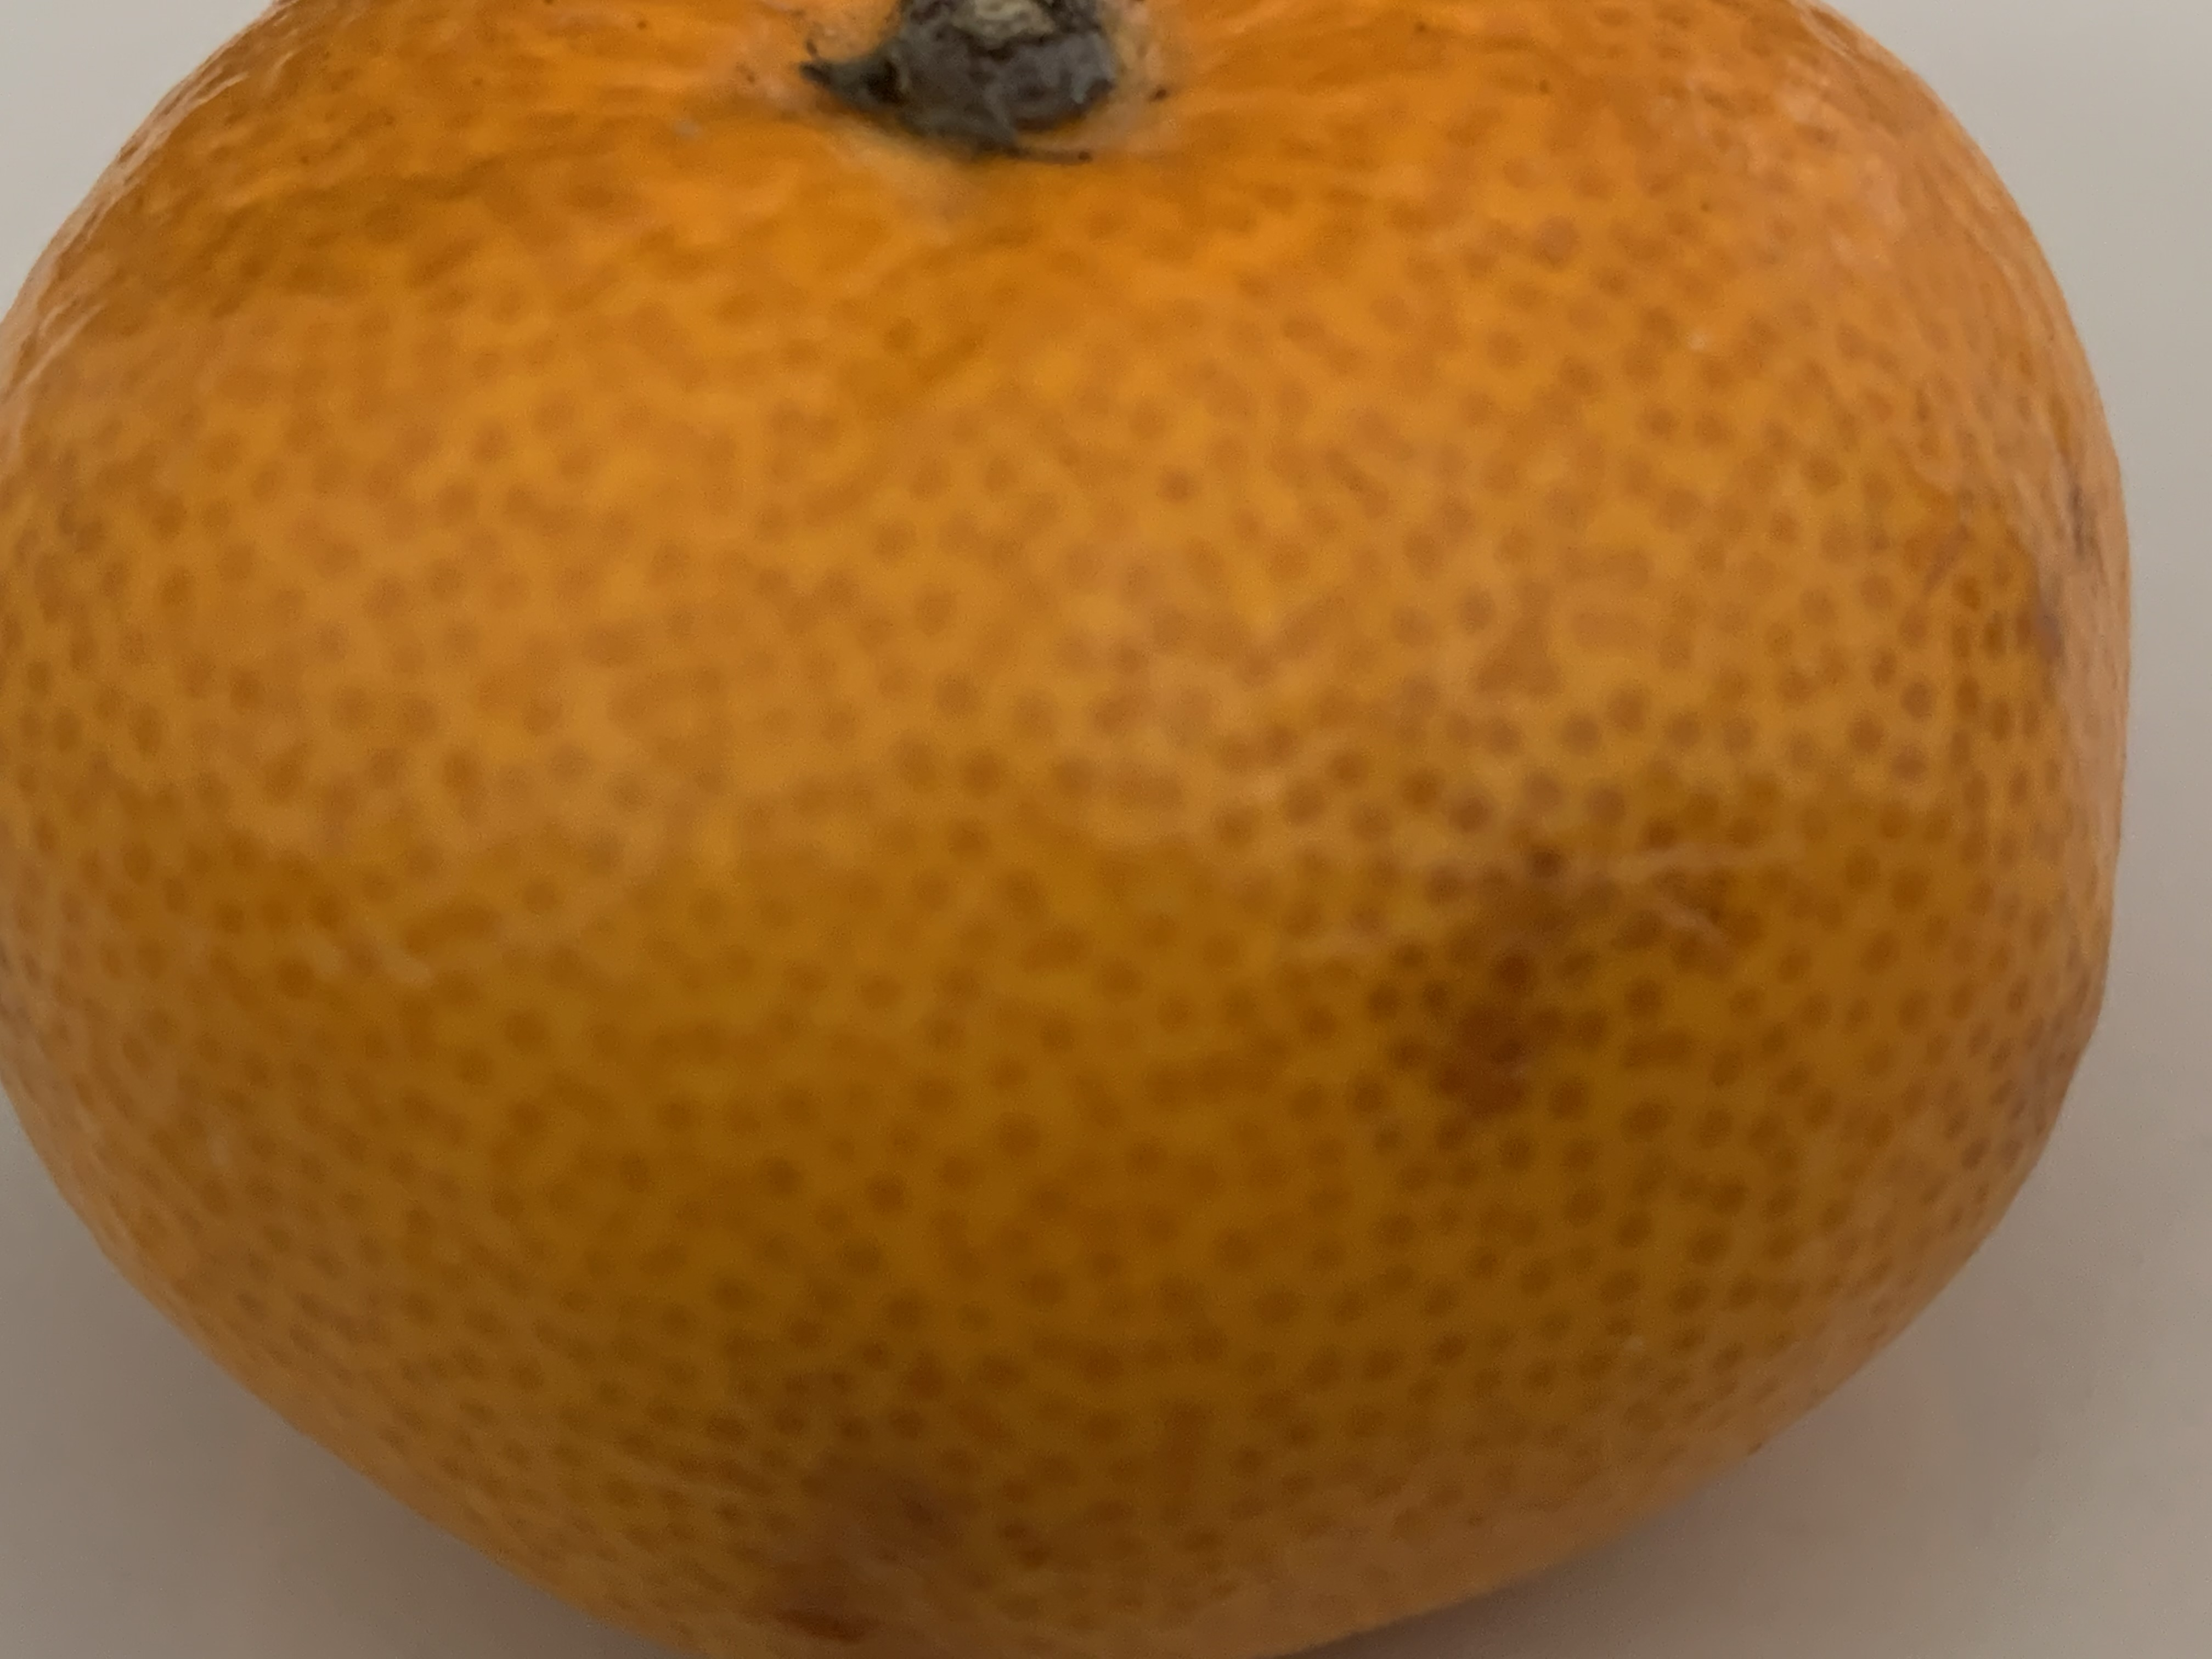orange: (16, 12, 2137, 1659)
